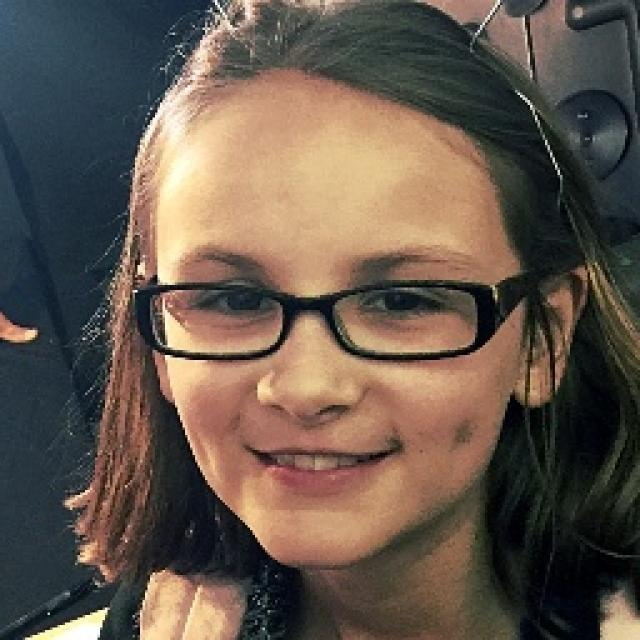earlobe: (513, 260, 590, 410), (140, 274, 176, 404)
